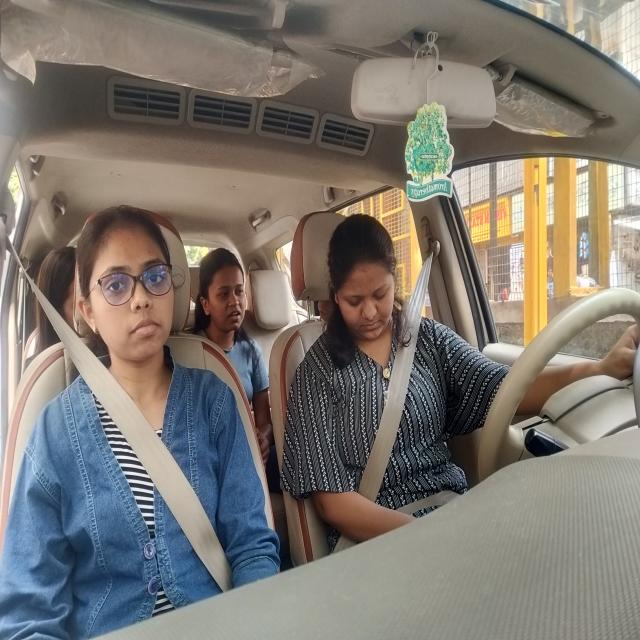drowsy: (321, 202, 415, 380)
person: (67, 194, 183, 385), (192, 238, 260, 357), (34, 231, 80, 342)
